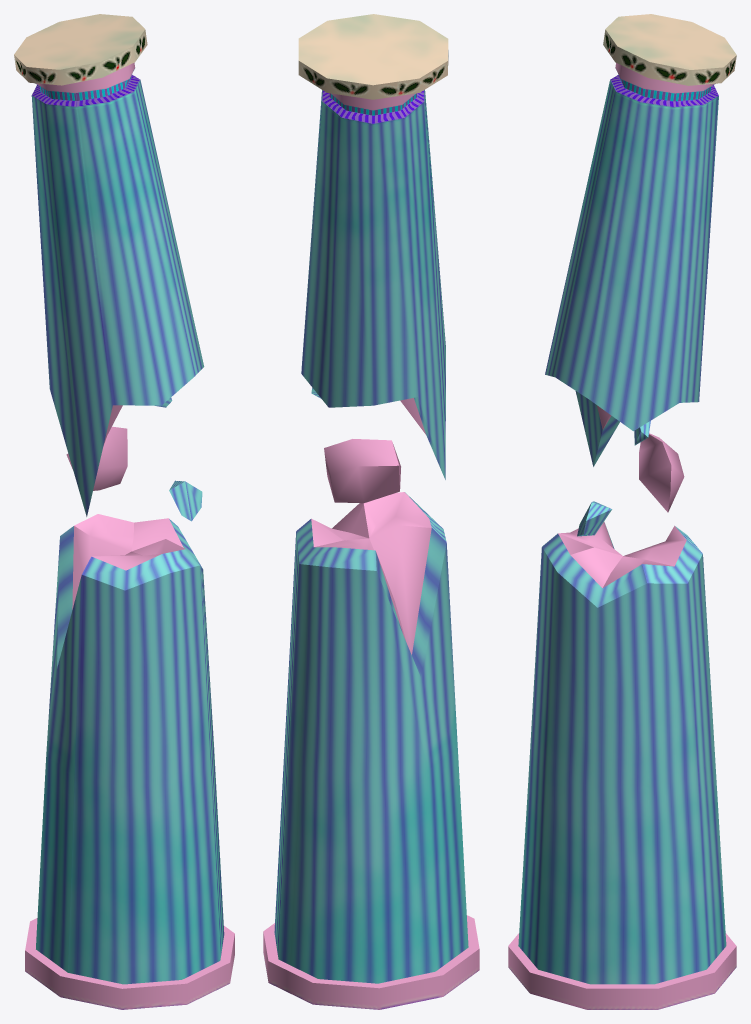
The model's file is Column_Vapor_03.glb.
3 renders of one model, left to right at view 1: azimuth 30°, elevation 25°; view 2: azimuth 150°, elevation 25°; view 3: azimuth 270°, elevation 25°, orthographic. The views are drawn at different scales.
Visible parts, largest first — view 1: Column_Vapor_03; view 2: Column_Vapor_03; view 3: Column_Vapor_03.
Boxes of the visible parts, x1,y1,x2,y2 form: Column_Vapor_03: (14,14,234,1009); Column_Vapor_03: (263,14,479,1009); Column_Vapor_03: (508,14,736,1009).
Bounding box in the file's own units: 1.71 × 8.54 × 1.92.
1 material, 1 textured.
